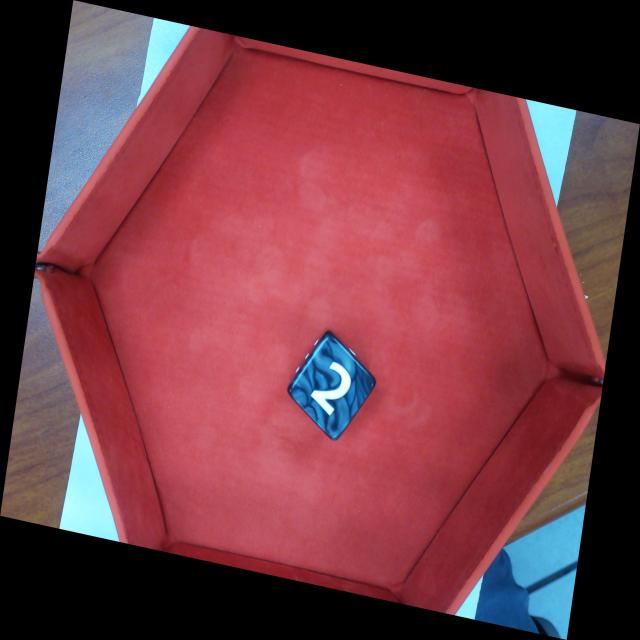dice: (292, 338, 376, 437)
